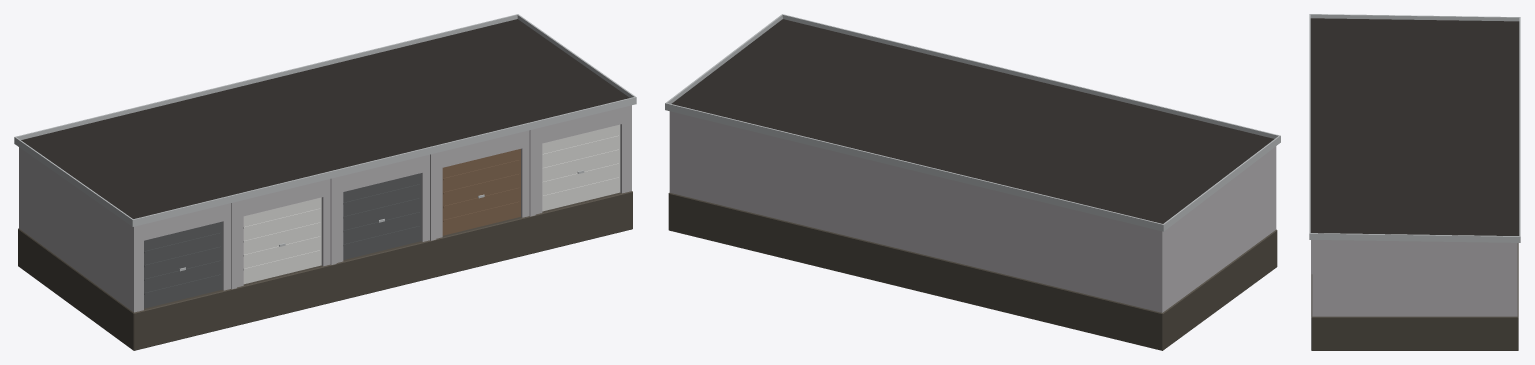
Rendered from garage-row-lod1.glb.
3 views of the same model, side by side, from view 1: azimuth 30°, elevation 25°; view 2: azimuth 150°, elevation 25°; view 3: azimuth 270°, elevation 25° (orthographic). The views are drawn at different scales.
Visible parts, largest first — view 1: garage-row-plaster0.001; view 2: garage-row-plaster0.001; view 3: garage-row-plaster0.001.
Boxes of the visible parts, x1,y1,x2,y2 form: garage-row-plaster0.001: (14, 14, 636, 350); garage-row-plaster0.001: (665, 14, 1280, 350); garage-row-plaster0.001: (1309, 14, 1520, 350).
Bounding box in the file's own units: 15.18 × 3.82 × 6.18.
